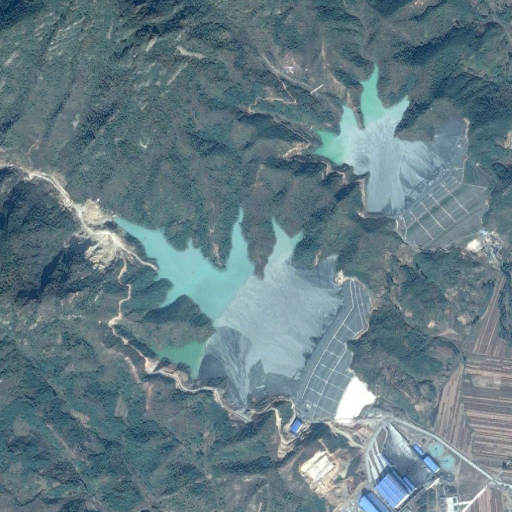tp: (111, 205, 379, 421), (312, 62, 491, 248)
